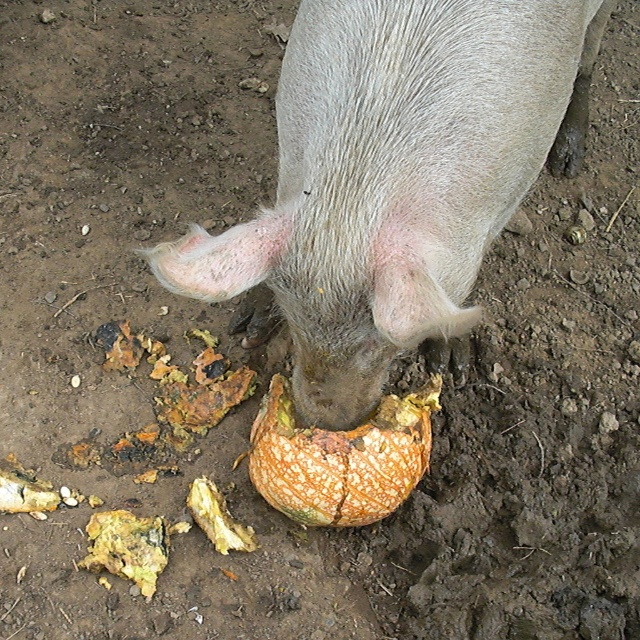Pig: (119, 0, 618, 432)
